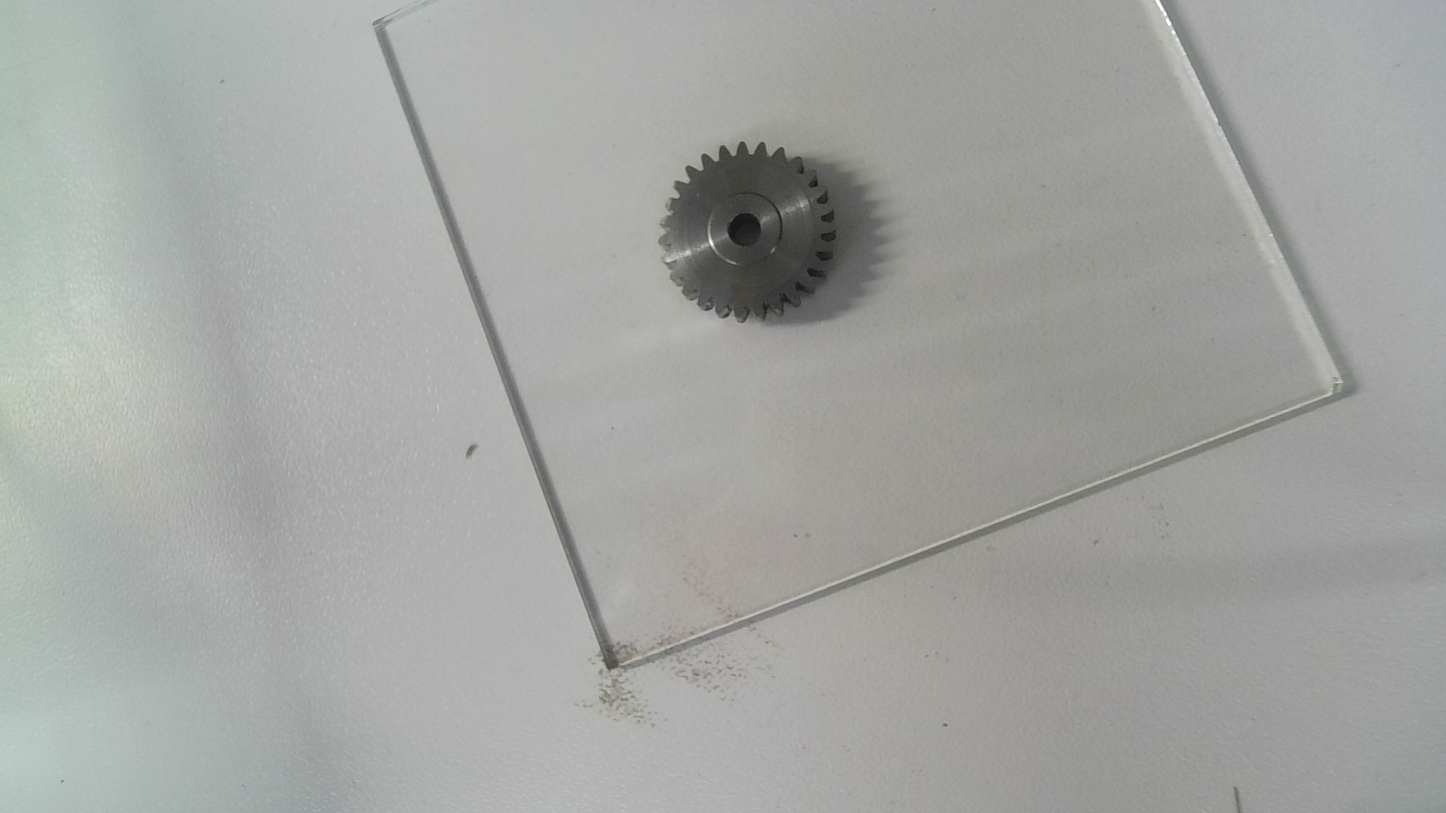gear: (655, 138, 842, 330)
